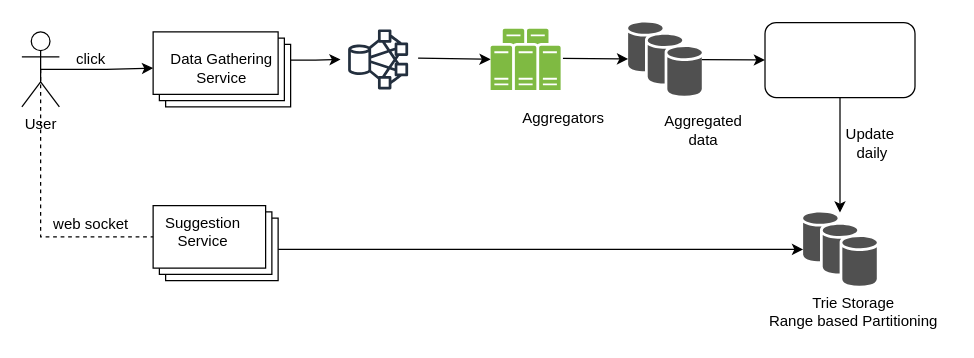
Some shapes in this 974 by 358 pixel diagram are drawn without their labels. The centre of each missing label's shape, as x and y in pixels:
HDFS cluster: the point at 377,59
Trie Creation Service: the point at 839,59
